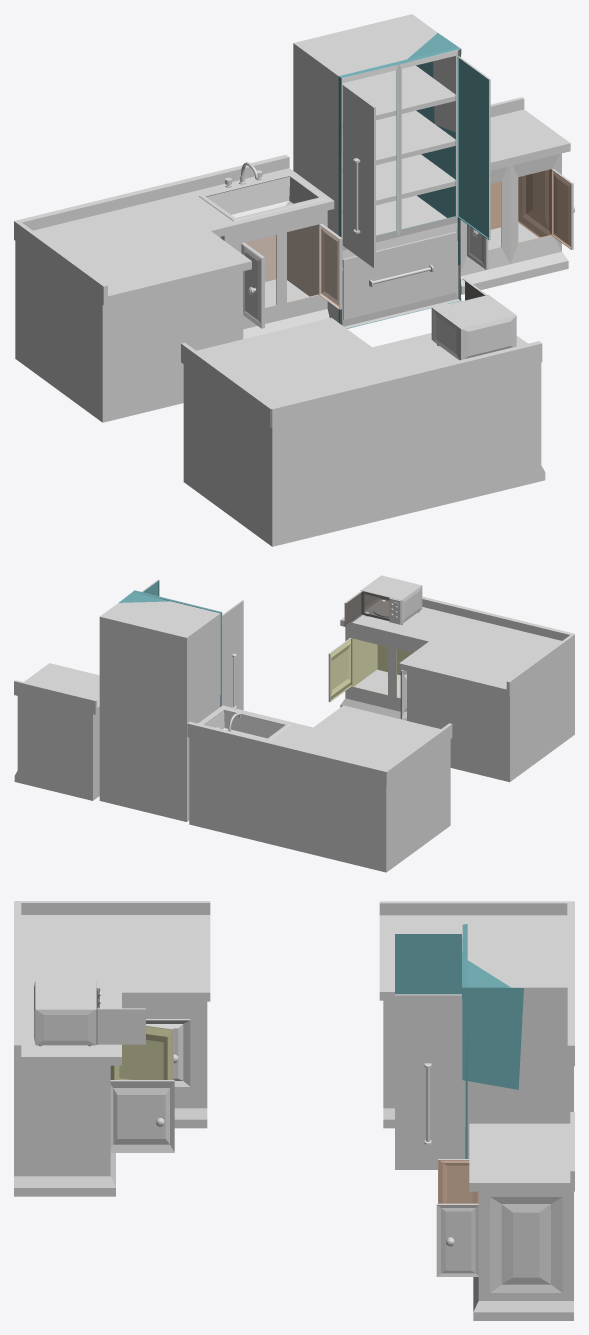
File: cozinha_aberta_separada.fbx
3 renders of one model, top to bottom at view 1: azimuth 30°, elevation 25°; view 2: azimuth 150°, elevation 25°; view 3: azimuth 270°, elevation 25°, orthographic. The views are drawn at different scales.
Visible parts, largest first — view 1: balcão 1.003, mesa da pia.001, porta geladeira.003, balcão solo.003, geladeira.001, porta geladeira.002, microondas aberto, porta mesa da pia.001, porta balcão solo.004, porta mesa da pia.002, porta balcão solo.002; view 2: mesa da pia.001, balcão 1.003, porta geladeira.003, balcão solo.003, microondas aberto, geladeira.001, porta balcão 1.001, porta microondas aberto.001; view 3: balcão 1.003, porta geladeira.003, balcão solo.003, porta geladeira.002, mesa da pia.001, porta balcão 1.001, microondas aberto, geladeira.001, porta balcão solo.004, porta balcão 1.002, porta microondas aberto.001, porta balcão solo.002.
Part boxes in pixels (left/top/right/bottom): balcão 1.003: left=181, top=317, right=545, bottom=546; mesa da pia.001: left=14, top=154, right=334, bottom=422; porta geladeira.003: left=293, top=14, right=461, bottom=328; balcão solo.003: left=460, top=97, right=570, bottom=294; geladeira.001: left=342, top=84, right=375, bottom=268; porta geladeira.002: left=457, top=56, right=490, bottom=240; microondas aberto: left=431, top=295, right=516, bottom=360; porta mesa da pia.001: left=318, top=223, right=343, bottom=309; porta balcão solo.004: left=551, top=169, right=574, bottom=249; porta mesa da pia.002: left=241, top=242, right=264, bottom=328; porta balcão solo.002: left=467, top=226, right=488, bottom=269; mesa da pia.001: left=187, top=705, right=452, bottom=872; balcão 1.003: left=340, top=596, right=574, bottom=782; porta geladeira.003: left=99, top=590, right=222, bottom=821; balcão solo.003: left=14, top=663, right=99, bottom=800; microondas aberto: left=360, top=575, right=422, bottom=624; geladeira.001: left=222, top=600, right=243, bottom=710; porta balcão 1.001: left=328, top=638, right=352, bottom=701; porta microondas aberto.001: left=344, top=591, right=362, bottom=626; balcão 1.003: left=14, top=901, right=210, bottom=1196; porta geladeira.003: left=462, top=924, right=567, bottom=1158; balcão solo.003: left=469, top=1112, right=574, bottom=1320; porta geladeira.002: left=395, top=994, right=461, bottom=1169; mesa da pia.001: left=379, top=901, right=574, bottom=1128; porta balcão 1.001: left=110, top=1080, right=174, bottom=1152; microondas aberto: left=34, top=980, right=100, bottom=1046; geladeira.001: left=395, top=933, right=461, bottom=994; porta balcão solo.004: left=436, top=1203, right=478, bottom=1276; porta balcão 1.002: left=110, top=1024, right=173, bottom=1079; porta microondas aberto.001: left=96, top=1008, right=145, bottom=1044; porta balcão solo.002: left=438, top=1159, right=476, bottom=1203.
Size of the model in its own units: 9336 by 4429 by 8191.
